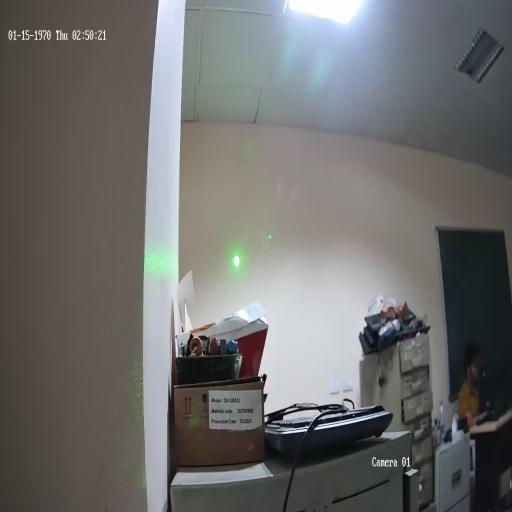laser: (230, 251, 242, 270)
